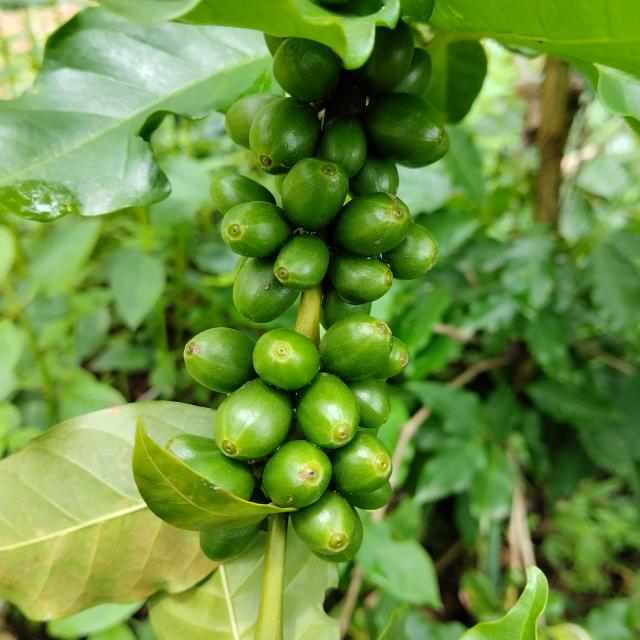green: (213, 378, 294, 461), (165, 435, 255, 501), (363, 92, 445, 161), (249, 96, 321, 174), (281, 157, 349, 231), (319, 314, 393, 381), (183, 328, 258, 394), (335, 192, 412, 256), (296, 373, 360, 449), (261, 441, 332, 509), (350, 19, 415, 93), (272, 36, 340, 102), (233, 256, 298, 323), (291, 490, 355, 555), (252, 329, 320, 390), (221, 201, 293, 257), (329, 433, 392, 496), (327, 252, 393, 305), (273, 234, 330, 292), (225, 92, 281, 149), (382, 222, 438, 279), (318, 116, 367, 178), (313, 508, 363, 564), (209, 173, 276, 214), (320, 280, 372, 331), (349, 150, 400, 196), (347, 377, 391, 429), (398, 130, 451, 168), (392, 47, 432, 94), (373, 336, 410, 380)
